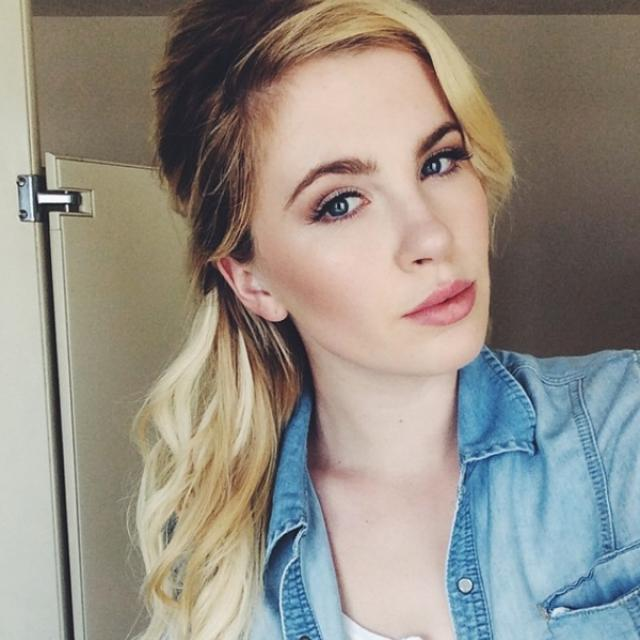earlobe: (261, 293, 288, 323)
eye: (310, 187, 374, 226), (410, 148, 469, 184)
nose: (408, 240, 464, 278)
wholeear: (213, 250, 289, 323)
